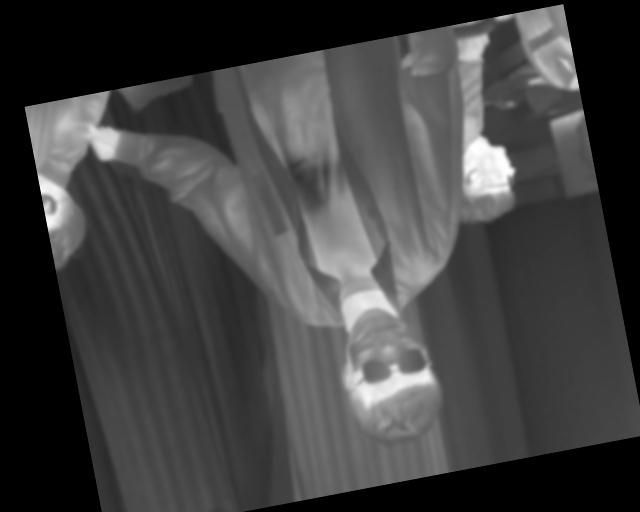face: (332, 300, 451, 454)
